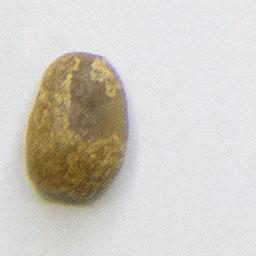longberry: (20, 46, 133, 207)
